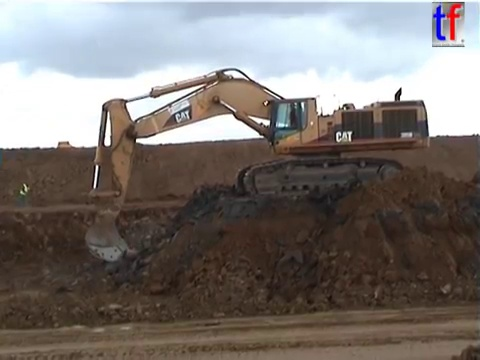excavator: (81, 64, 433, 266)
truck: (55, 139, 71, 154)
worker: (16, 178, 33, 211)
